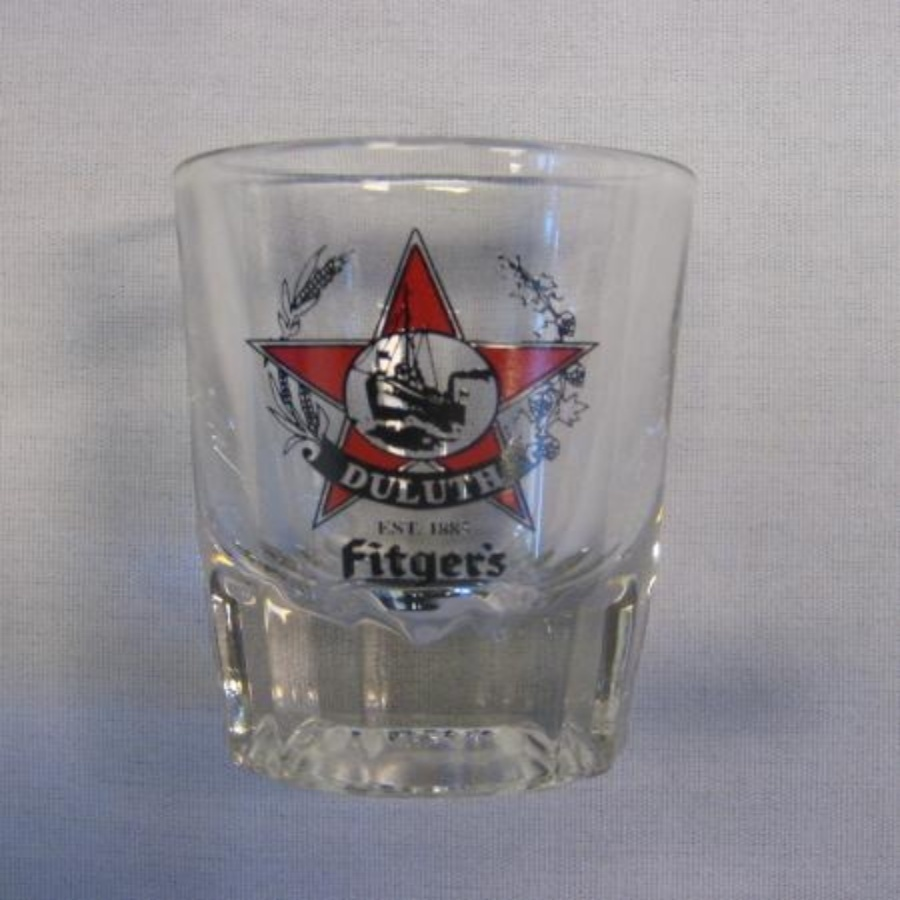whiskey: (187, 139, 676, 796)
